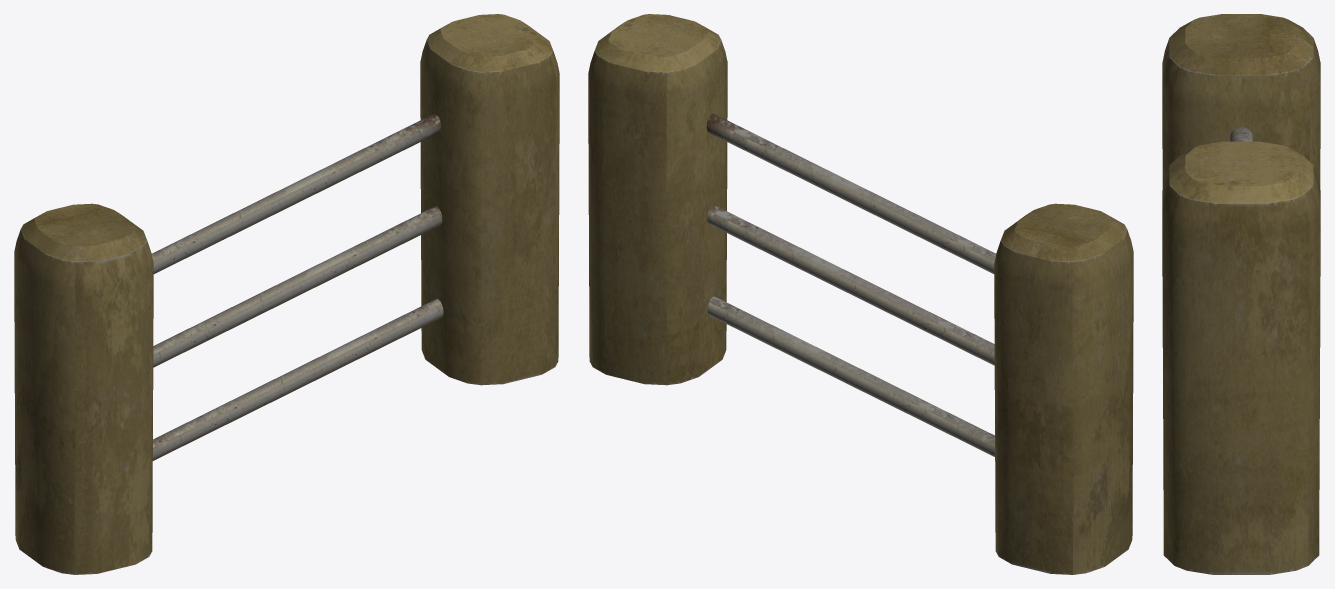
File: Fence Concrete  slope.fbx
3 renders of one model, left to right at view 1: azimuth 30°, elevation 25°; view 2: azimuth 150°, elevation 25°; view 3: azimuth 270°, elevation 25°, orthographic. The views are drawn at different scales.
Visible parts, largest first — view 1: Cerca de concreto ladeira; view 2: Cerca de concreto ladeira; view 3: Cerca de concreto ladeira.
Part boxes in pixels (x1,y1,x2,y2): Cerca de concreto ladeira: (14,14,559,574); Cerca de concreto ladeira: (588,14,1133,574); Cerca de concreto ladeira: (1162,14,1320,574).
Bounding box in the file's own units: 138 × 105 × 30.95.
